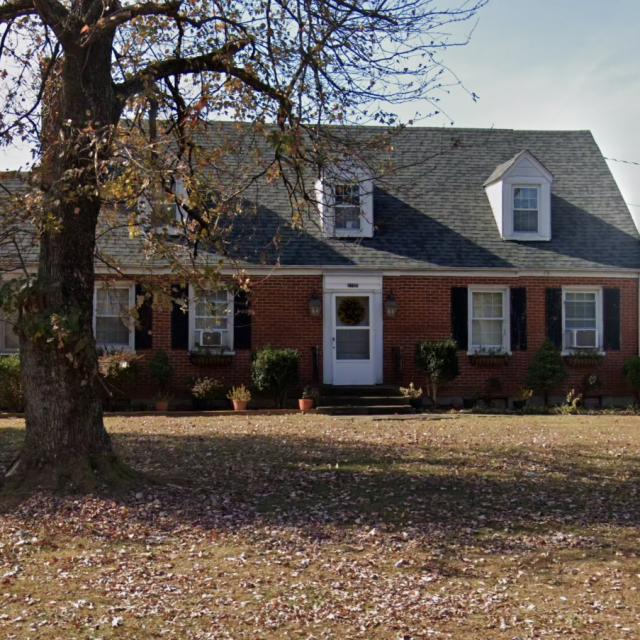House: (0, 118, 640, 404)
